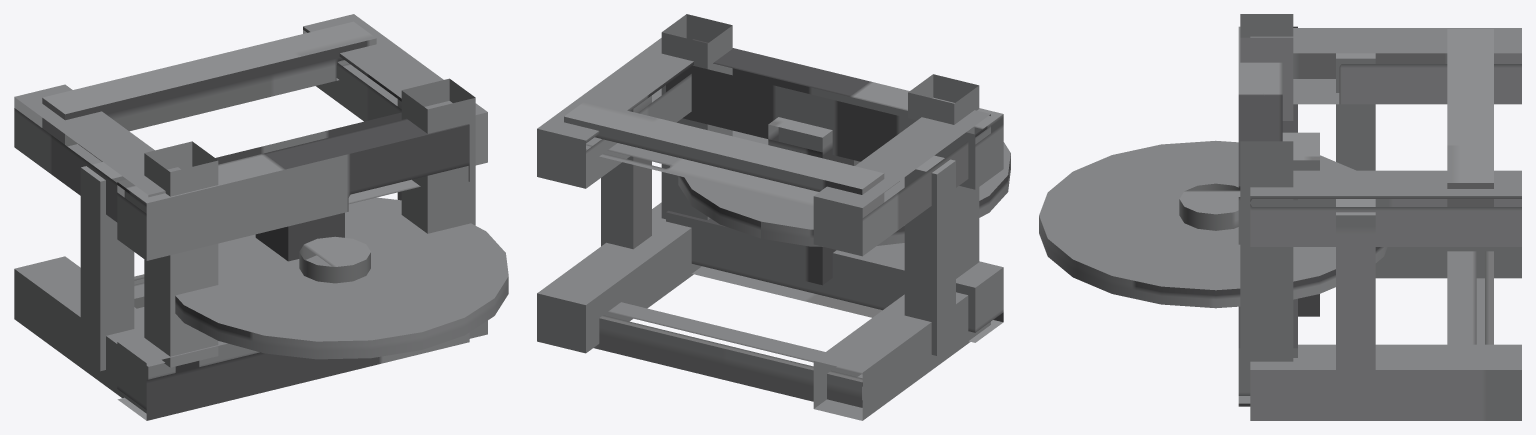
3 renders of one model, left to right at view 1: azimuth 30°, elevation 25°; view 2: azimuth 150°, elevation 25°; view 3: azimuth 270°, elevation 25°, orthographic. The views are drawn at different scales.
Bounding box in the file's own units: 0.6728 × 0.4564 × 0.7875.
